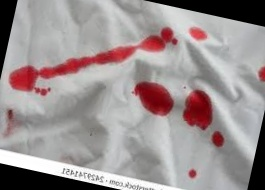blood: (6, 24, 131, 113), (129, 78, 178, 117), (181, 88, 216, 131), (137, 23, 175, 57), (209, 131, 227, 149), (190, 27, 208, 41), (256, 64, 265, 83), (188, 168, 198, 180)
